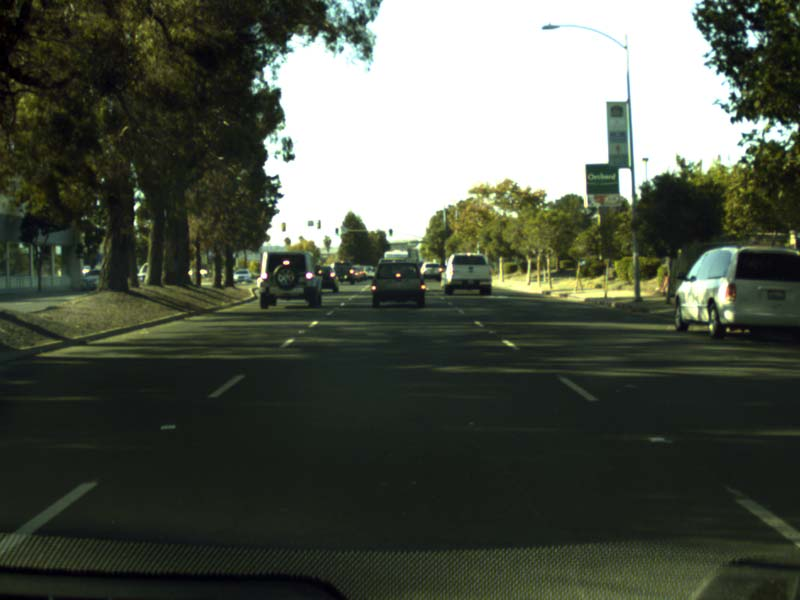Green: (388, 228, 391, 236), (334, 228, 337, 235)
